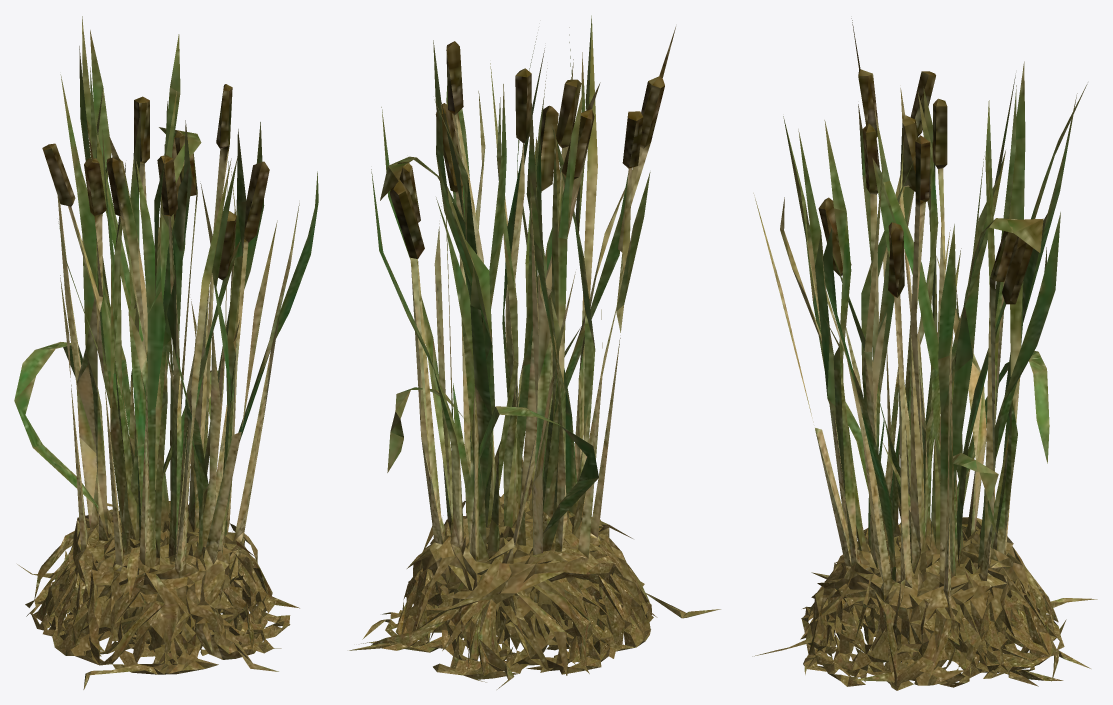
The model's file is plant-reed-final.glb.
The picture shows the model from 3 angles, left to right: view 1: azimuth 30°, elevation 25°; view 2: azimuth 150°, elevation 25°; view 3: azimuth 270°, elevation 25°; orthographic projection. The views are drawn at different scales.
Visible parts, largest first — view 1: output_unwrapped; view 2: output_unwrapped; view 3: output_unwrapped.
Boxes of the visible parts, <box> form: output_unwrapped: <box>14,16,318,689</box>; output_unwrapped: <box>349,15,720,689</box>; output_unwrapped: <box>752,18,1097,690</box>.
Size of the model in its own units: 0.9122 by 2 by 1.08.
1 material, 1 textured.
